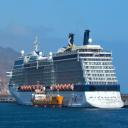cruises: (6, 30, 126, 113)
